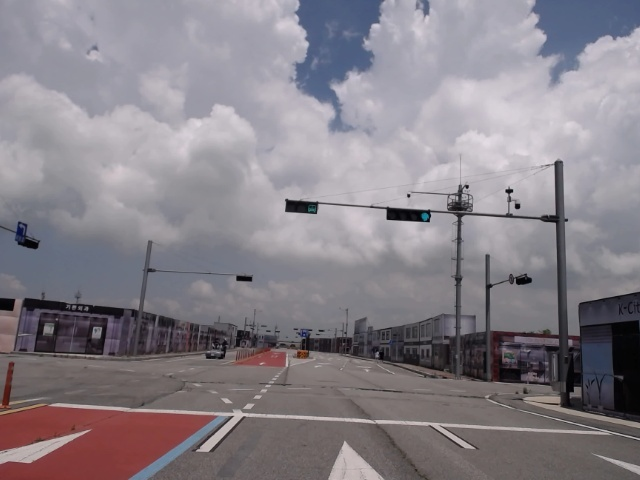straight_green_4: (385, 207, 431, 222)
